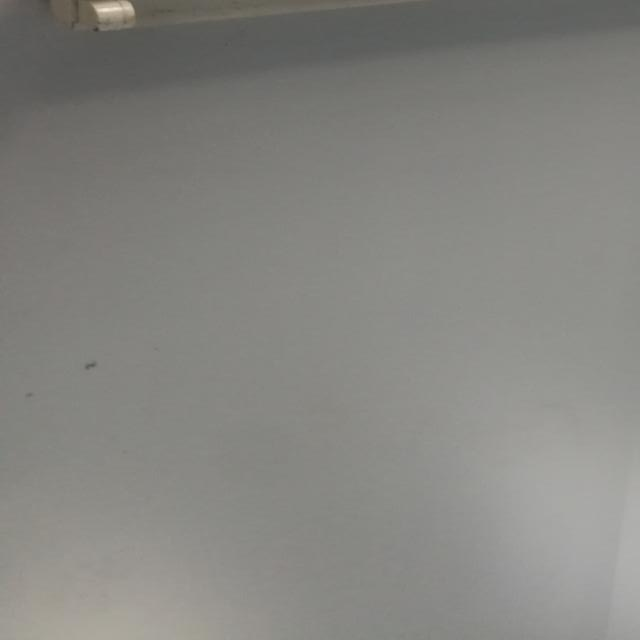fluorescent tube: (19, 0, 640, 71)
